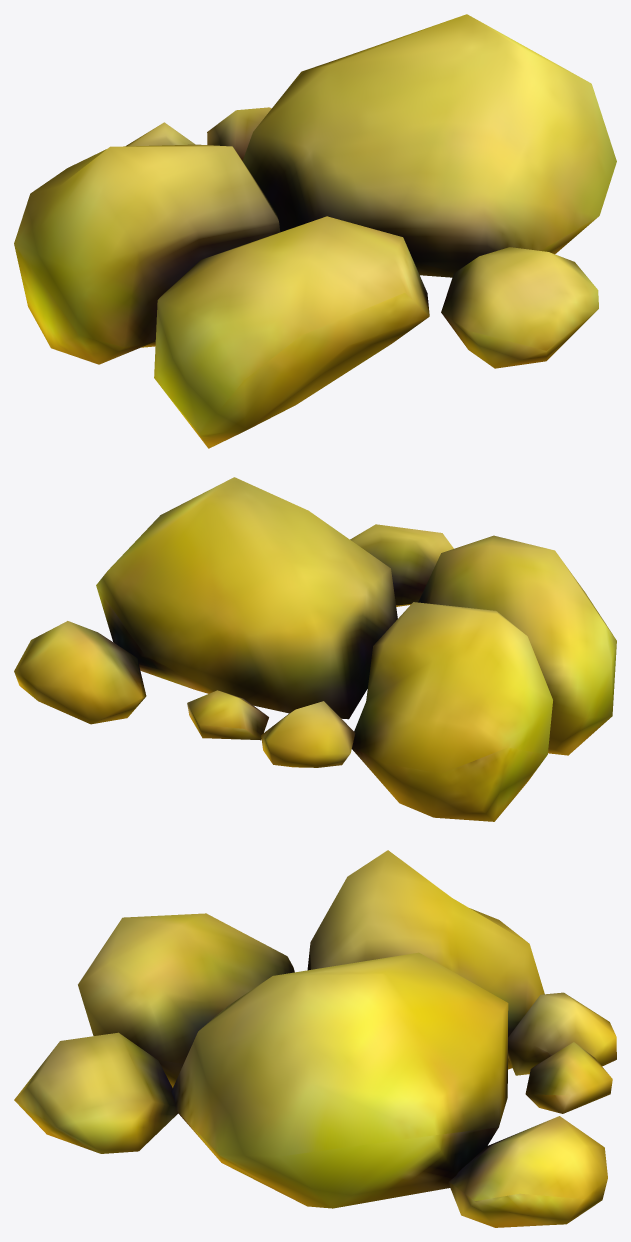
Rendered from Gold.glb.
The picture shows the model from 3 angles, top to bottom: view 1: azimuth 30°, elevation 25°; view 2: azimuth 150°, elevation 25°; view 3: azimuth 270°, elevation 25°; orthographic projection. The views are drawn at different scales.
Parts seen in each view (by area): view 1: rock.002; view 2: rock.002; view 3: rock.002.
Part boxes in pixels (x1,y1,x2,y2): rock.002: (14,14,616,448); rock.002: (14,477,616,821); rock.002: (14,850,616,1227).
Bounding box in the file's own units: 1.01 × 0.501 × 0.9585.
1 material, 1 textured.
